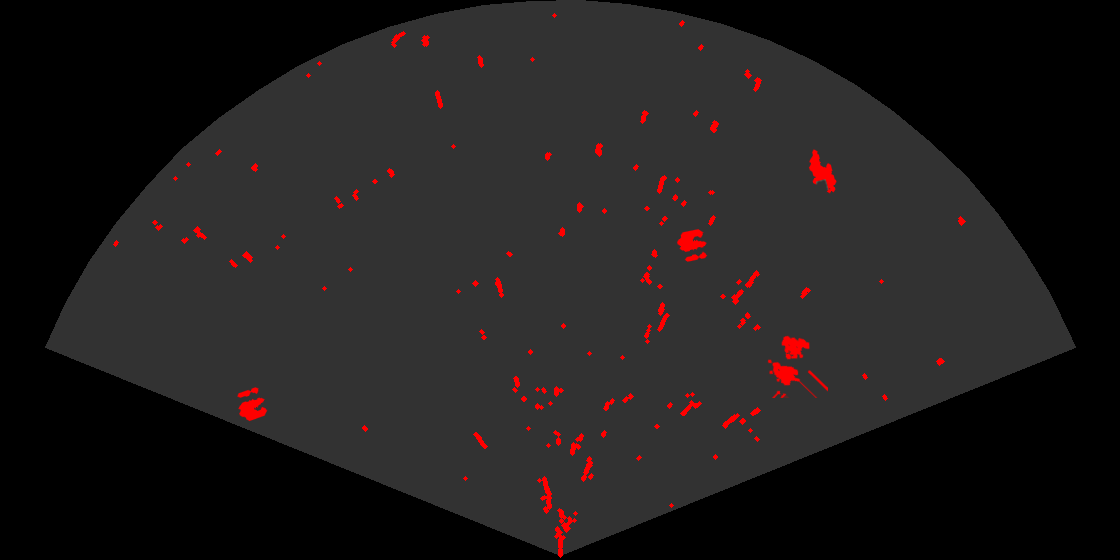AUV: (807, 148, 838, 195)
ball: (236, 386, 269, 423), (675, 228, 709, 263)
cage: (766, 334, 828, 398)
